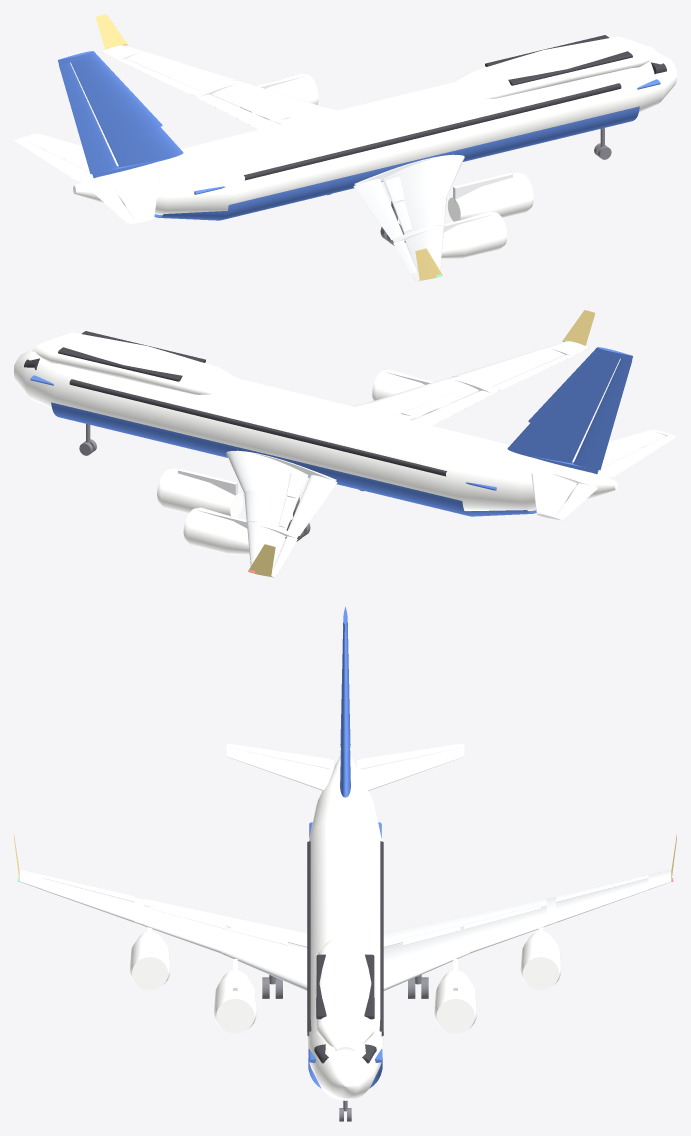
Rendered from jumbo.glb.
3 renders of one model, top to bottom at view 1: azimuth 30°, elevation 25°; view 2: azimuth 150°, elevation 25°; view 3: azimuth 270°, elevation 25°, orthographic. The views are drawn at different scales.
Visible parts, largest first — view 1: body, rudder, flapR, flapL, elevatorL, elevatorR, aileronL, gear, spoilerL1; view 2: body, rudder, flapL, flapR, elevatorR, elevatorL, aileronR, gear, spoilerR1; view 3: body, flapL, flapR, gear, elevatorL, elevatorR.
Boxes of the visible parts, bbox=[...] form: body: bbox=[14, 14, 676, 281]; rudder: bbox=[59, 62, 117, 174]; flapR: bbox=[353, 179, 403, 239]; flapL: bbox=[198, 94, 278, 129]; elevatorL: bbox=[16, 140, 92, 181]; elevatorR: bbox=[93, 187, 134, 222]; aileronL: bbox=[119, 58, 197, 94]; gear: bbox=[327, 128, 611, 245]; spoilerL1: bbox=[216, 91, 289, 119]; body: bbox=[14, 310, 676, 577]; rudder: bbox=[573, 358, 631, 470]; flapL: bbox=[287, 475, 337, 535]; flapR: bbox=[412, 390, 492, 425]; elevatorR: bbox=[598, 436, 674, 477]; elevatorL: bbox=[556, 483, 597, 518]; aileronR: bbox=[493, 354, 571, 390]; gear: bbox=[79, 424, 363, 541]; spoilerR1: bbox=[401, 387, 474, 415]; body: bbox=[14, 606, 676, 1100]; flapL: bbox=[383, 899, 546, 947]; flapR: bbox=[144, 899, 307, 947]; gear: bbox=[262, 975, 428, 1121]; elevatorL: bbox=[360, 744, 460, 768]; elevatorR: bbox=[230, 744, 330, 768].
Bounding box in the file's own units: 38.65 × 13.76 × 34.6.
